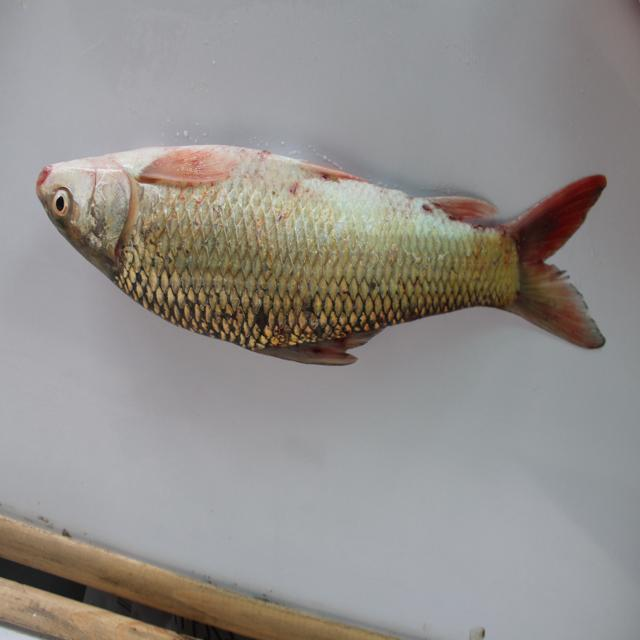Mori: (34, 120, 619, 405)
